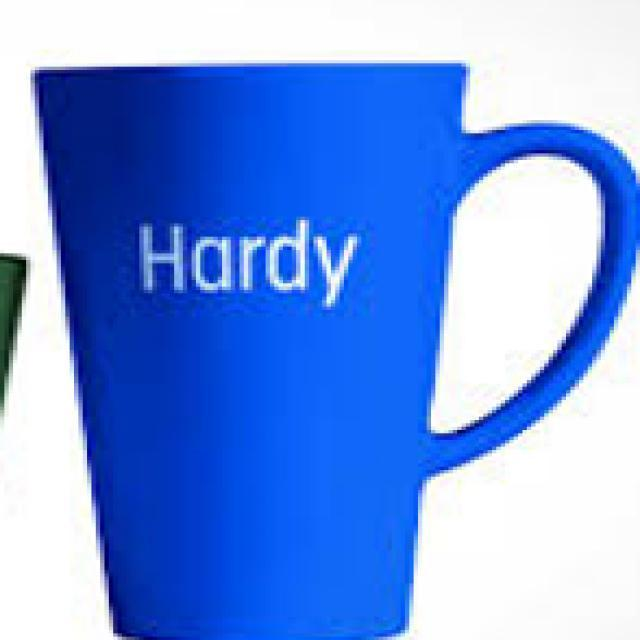taza: (27, 60, 640, 636)
